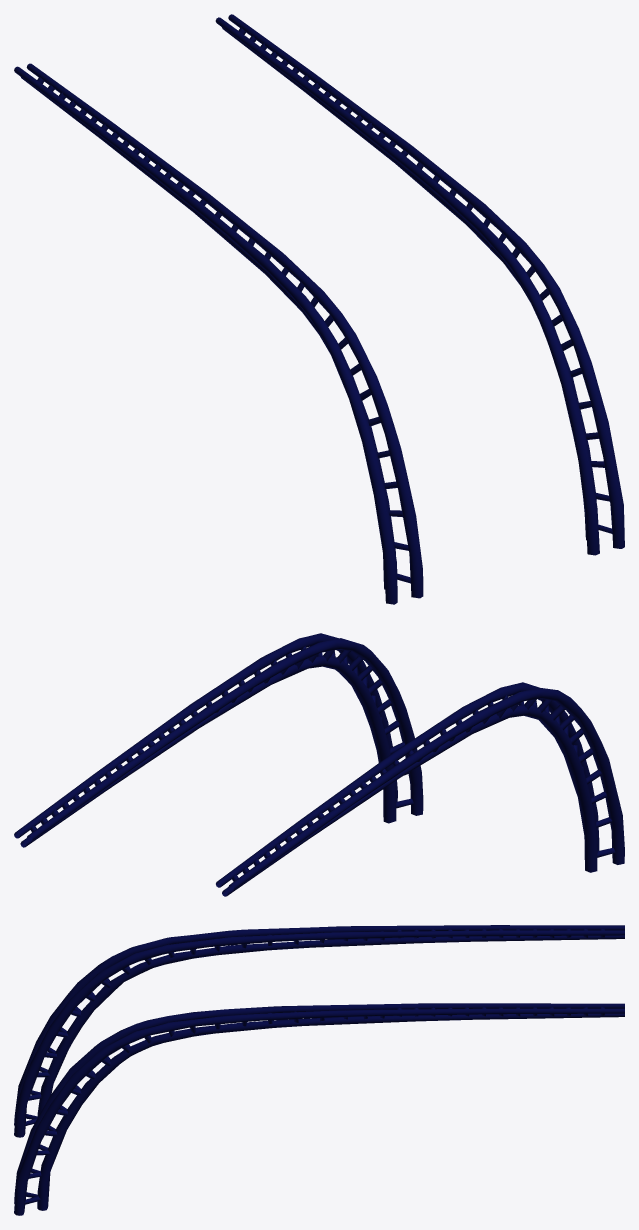
The model's file is Al_Nasar_Football_Stadium_NurbsPath_027.FBX.
3 renders of one model, top to bottom at view 1: azimuth 30°, elevation 25°; view 2: azimuth 150°, elevation 25°; view 3: azimuth 270°, elevation 25°, orthographic. The views are drawn at different scales.
Parts seen in each view (by area): view 1: Al_Nasar_Football_Stadium_NurbsPath_027; view 2: Al_Nasar_Football_Stadium_NurbsPath_027; view 3: Al_Nasar_Football_Stadium_NurbsPath_027.
Boxes of the visible parts, <box> form: Al_Nasar_Football_Stadium_NurbsPath_027: <box>14,14,624,604</box>; Al_Nasar_Football_Stadium_NurbsPath_027: <box>14,633,624,896</box>; Al_Nasar_Football_Stadium_NurbsPath_027: <box>14,925,624,1215</box>.
Bounding box in the file's own units: 2360 × 6592 × 2414.
